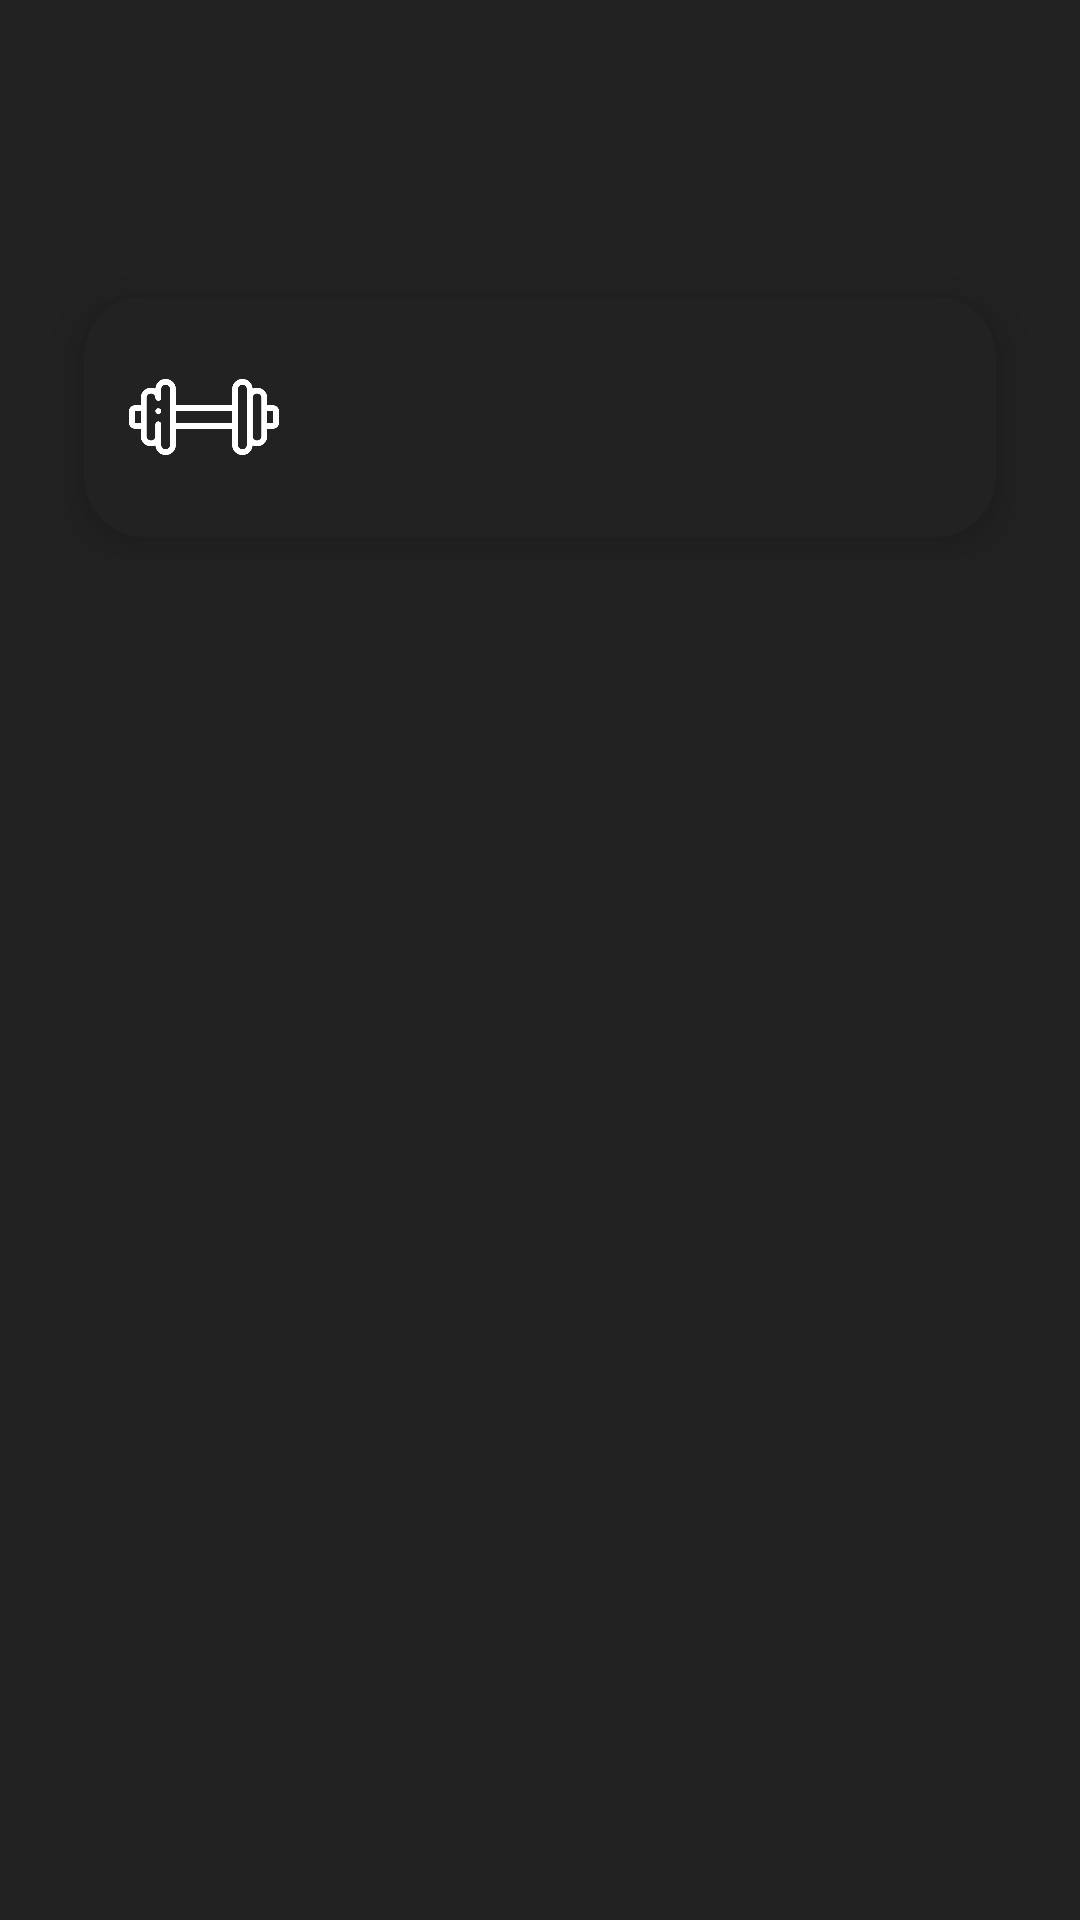

Where to tap for icons on this 1080px×1920px app screen, as point (x, y):
dumbbell: point (204, 417)
